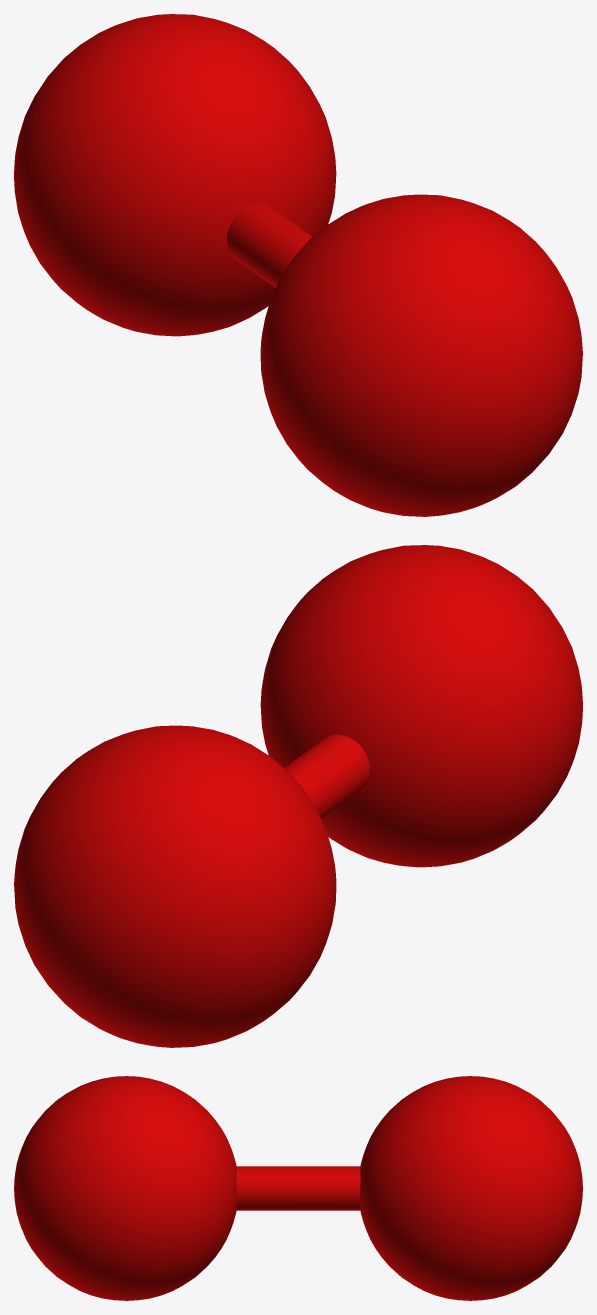
3 renders of one model, top to bottom at view 1: azimuth 30°, elevation 25°; view 2: azimuth 150°, elevation 25°; view 3: azimuth 270°, elevation 25°, orthographic. The views are drawn at different scales.
Parts seen in each view (by area): view 1: O2; view 2: O2; view 3: O2.
Boxes of the visible parts, x1,y1,x2,y2 form: O2: (14, 14, 582, 516); O2: (14, 545, 582, 1047); O2: (14, 1076, 582, 1300).
Size of the model in its own units: 0.4507 by 0.4507 by 1.14.
